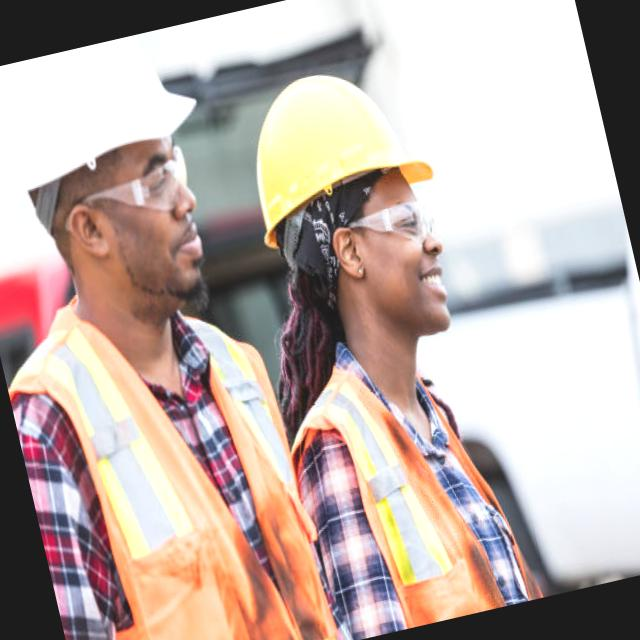goggles: (60, 142, 206, 246), (331, 192, 448, 270)
helmet: (226, 49, 439, 245), (0, 24, 210, 198)
vest: (0, 261, 318, 640), (296, 343, 514, 640)
